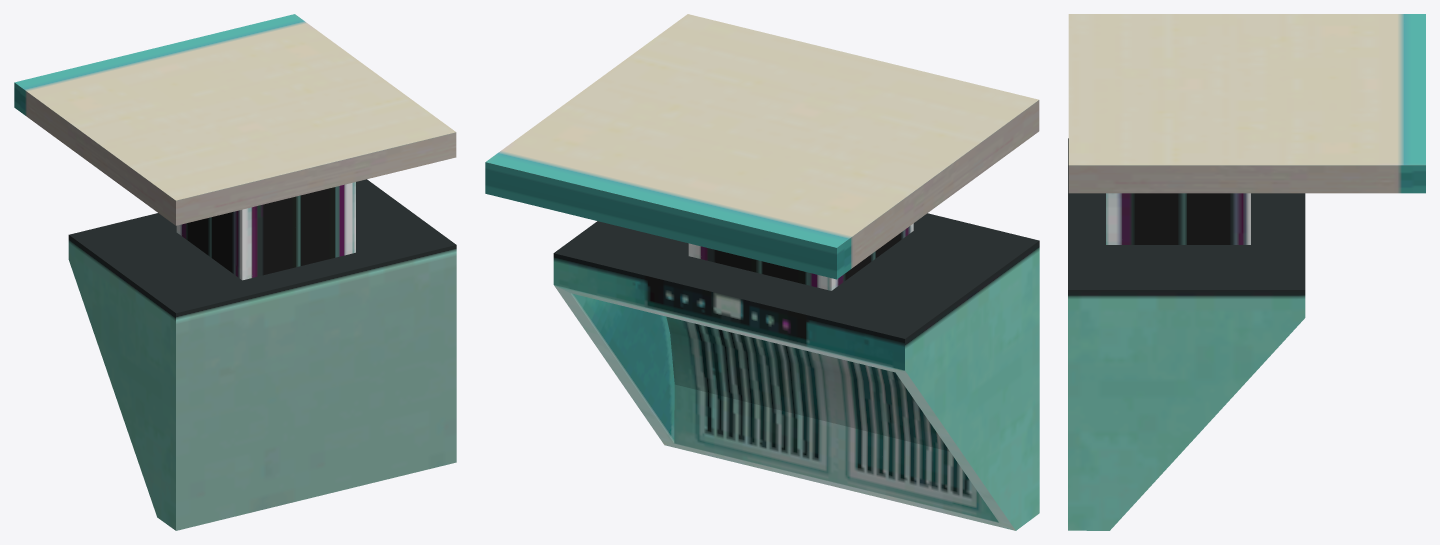
File: furni_0200523_02.FBX
3 renders of one model, left to right at view 1: azimuth 30°, elevation 25°; view 2: azimuth 150°, elevation 25°; view 3: azimuth 270°, elevation 25°, orthographic. The views are drawn at different scales.
Visible parts, largest first — view 1: furni_0200523_02; view 2: furni_0200523_02; view 3: furni_0200523_02.
Part boxes in pixels (x1,y1,x2,y2): furni_0200523_02: [14, 14, 456, 530]; furni_0200523_02: [485, 14, 1039, 530]; furni_0200523_02: [1068, 14, 1425, 530].
Size of the model in its own units: 80.01 by 90.06 by 79.89.
Materials: 1 (1 with a texture image).
